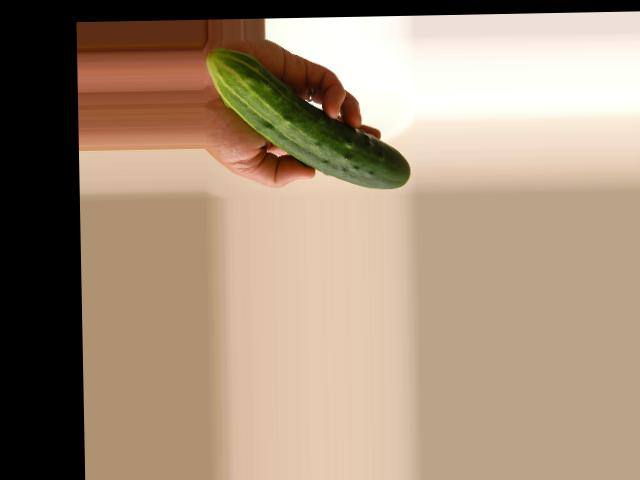cucumber: (207, 44, 410, 191)
